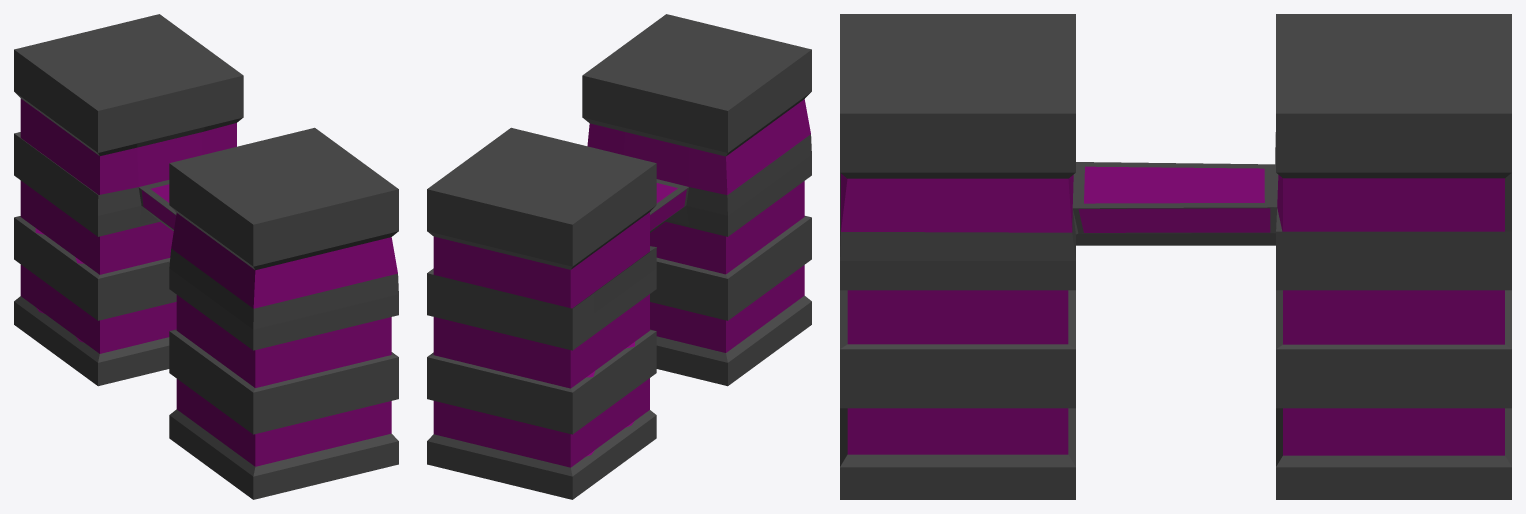
File: EdificioPonteVidro.fbx
3 renders of one model, left to right at view 1: azimuth 30°, elevation 25°; view 2: azimuth 150°, elevation 25°; view 3: azimuth 270°, elevation 25°, orthographic. The views are drawn at different scales.
Visible parts, largest first — view 1: Cube; view 2: Cube; view 3: Cube.
Boxes of the visible parts, x1,y1,x2,y2 form: Cube: (14,14,398,499); Cube: (427,14,811,499); Cube: (840,14,1511,499).
Size of the model in its own units: 3.43 by 9.76 by 6.19.
